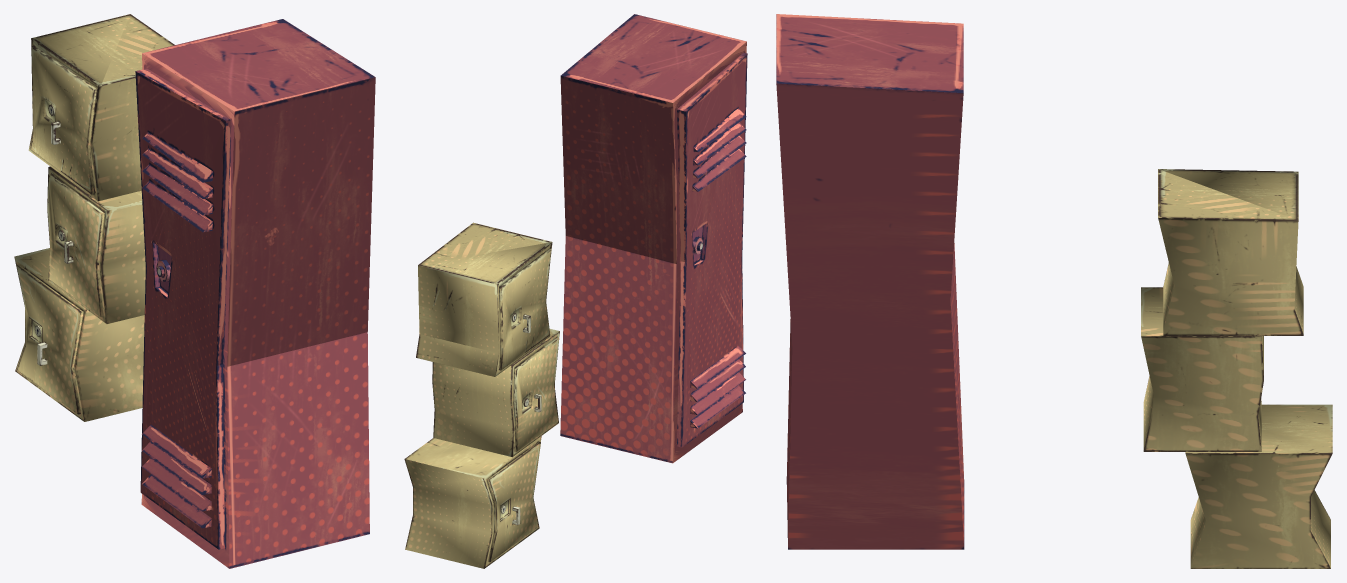
Rendered from LockersB_NoRust.glb.
3 renders of one model, left to right at view 1: azimuth 30°, elevation 25°; view 2: azimuth 150°, elevation 25°; view 3: azimuth 270°, elevation 25°, orthographic. The views are drawn at different scales.
Visible parts, largest first — view 1: Cube.001, small locker top door; view 2: Cube.001, small locker top door; view 3: Cube.001, small locker top door.
Part boxes in pixels (bbox=[...]): Cube.001: bbox=[135, 19, 375, 568]; small locker top door: bbox=[14, 14, 174, 421]; Cube.001: bbox=[560, 14, 747, 463]; small locker top door: bbox=[404, 222, 559, 568]; Cube.001: bbox=[776, 14, 964, 549]; small locker top door: bbox=[1141, 169, 1332, 568].
Size of the model in its own units: 1.43 by 3.82 by 4.02.
2 materials, 2 textured.
